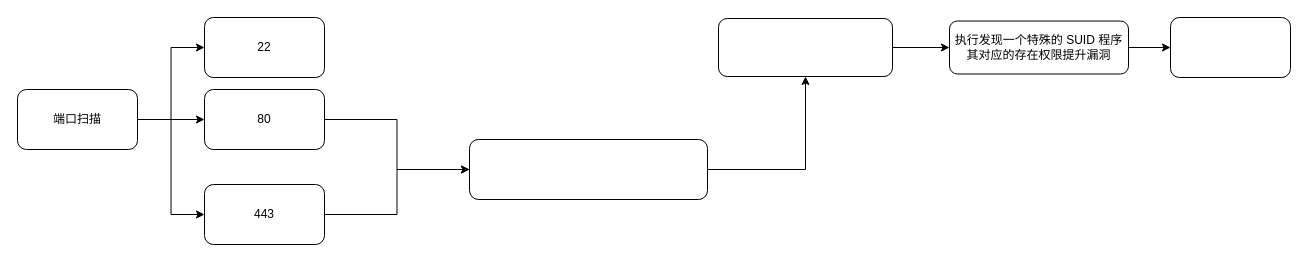
Image size: 1308x262. Some labels were removed from this diagram. The shapes that lost their labels are listed below. From the top down, each one's box as (x1, y1, x2, y2) in pixels, then its label:
(718, 18, 892, 76): 获取到 www-data 用户的 Shell
(1170, 16, 1290, 78): 利用此获取到 Shell
(468, 138, 708, 200): 从其扫描的结果中得到几个子域, 发现其中一个子域的 CMS 存在对应的 RCE 漏洞
